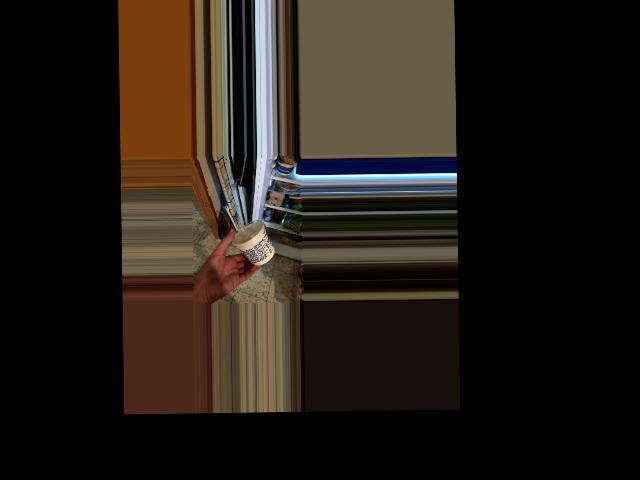cotage: (233, 219, 271, 267)
